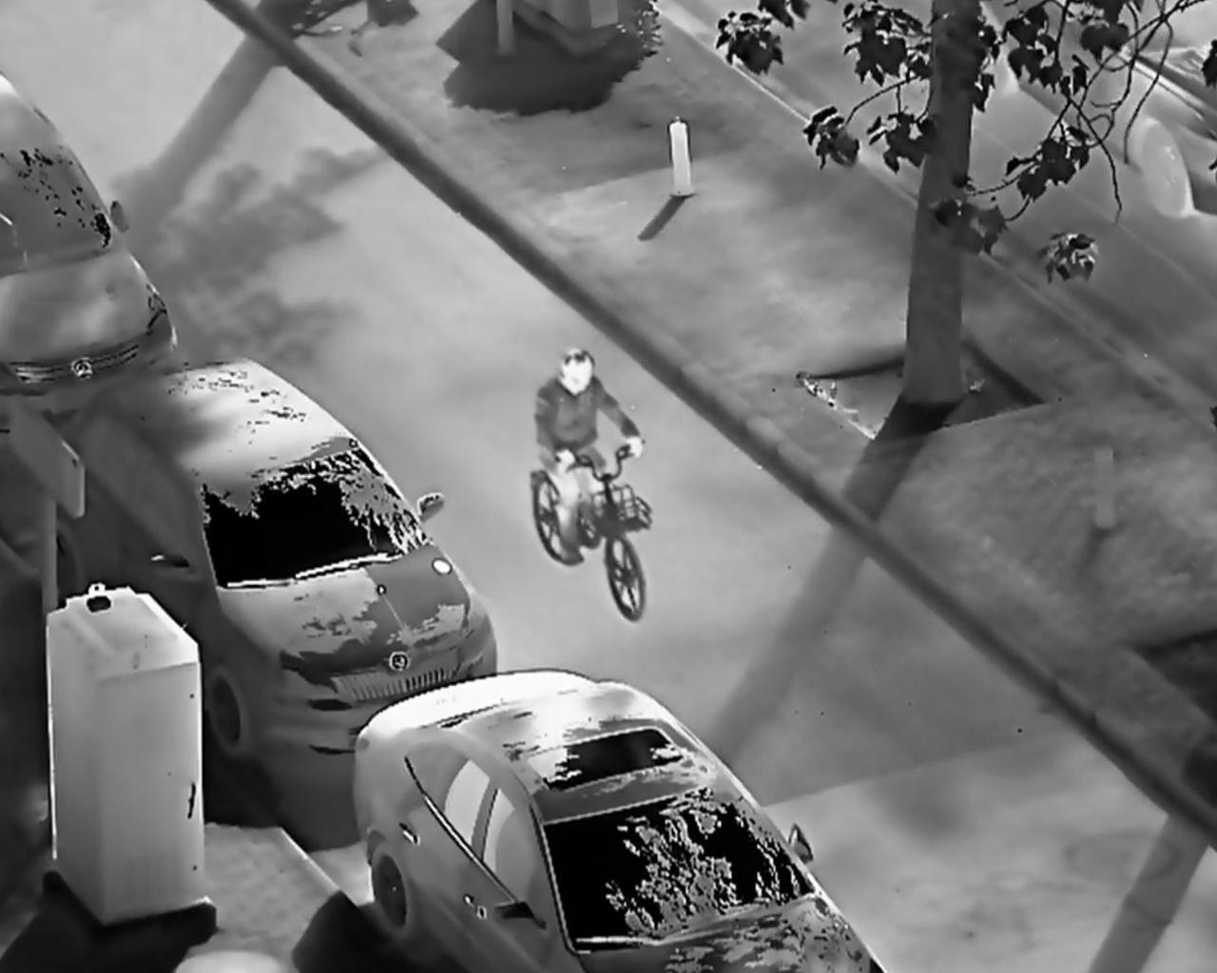person: (532, 346, 647, 571)
